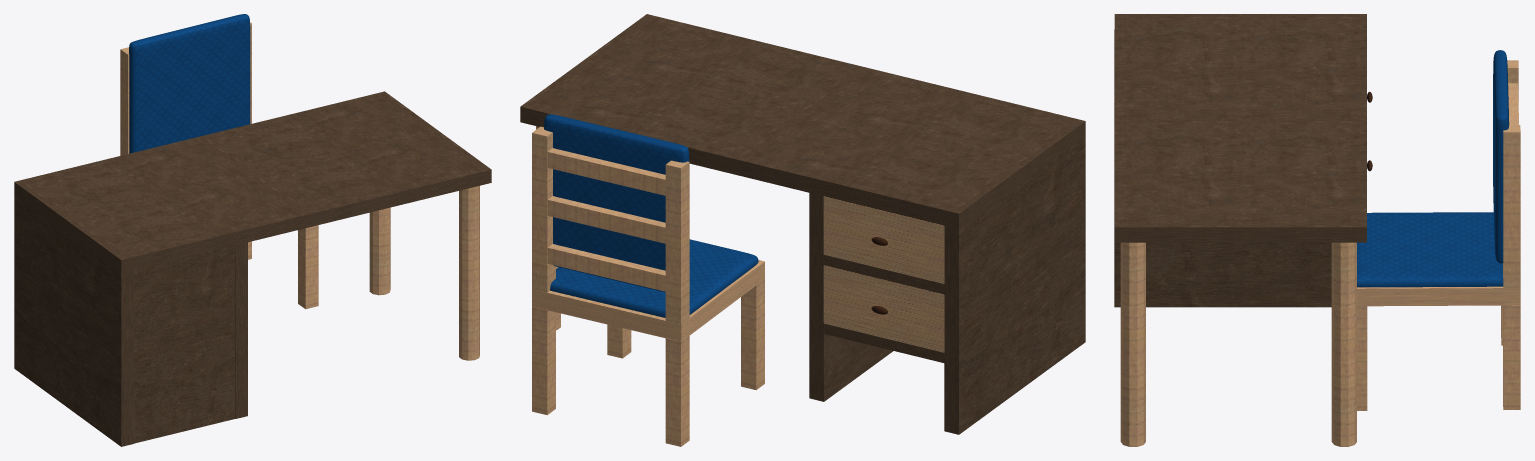
The model's file is study_table3.glb.
3 views of the same model, side by side, from view 1: azimuth 30°, elevation 25°; view 2: azimuth 150°, elevation 25°; view 3: azimuth 270°, elevation 25° (orthographic). The views are drawn at different scales.
Visible parts, largest first — view 1: Object_5, Object_3, Object_2; view 2: Object_5, Object_2, Object_3, Object_4; view 3: Object_5, Object_2, Object_4, Object_3.
Boxes of the visible parts, x1=… form: Object_5: x1=14, y1=91, x2=491, y2=446; Object_3: x1=129, y1=14, x2=250, y2=153; Object_2: x1=120, y1=22, x2=479, y2=360; Object_5: x1=520, y1=14, x2=1085, y2=434; Object_2: x1=532, y1=126, x2=944, y2=446; Object_3: x1=544, y1=114, x2=689, y2=292; Object_4: x1=550, y1=239, x2=758, y2=317; Object_5: x1=1114, y1=14, x2=1366, y2=307; Object_2: x1=1120, y1=60, x2=1520, y2=446; Object_4: x1=1357, y1=212, x2=1503, y2=287; Object_3: x1=1493, y1=50, x2=1509, y2=263.
Bounding box in the file's own units: 8 × 5.09 × 6.44.
4 materials, 4 textured.
